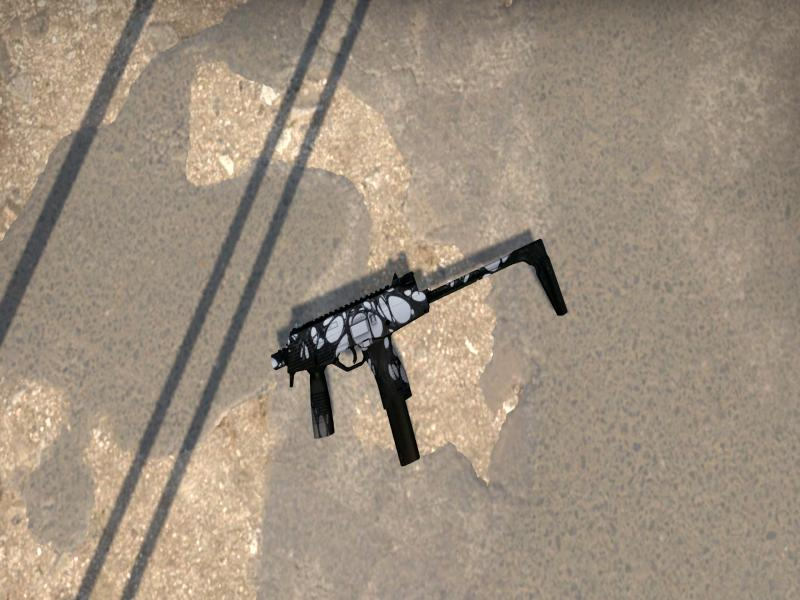MP9: (272, 239, 567, 465)
